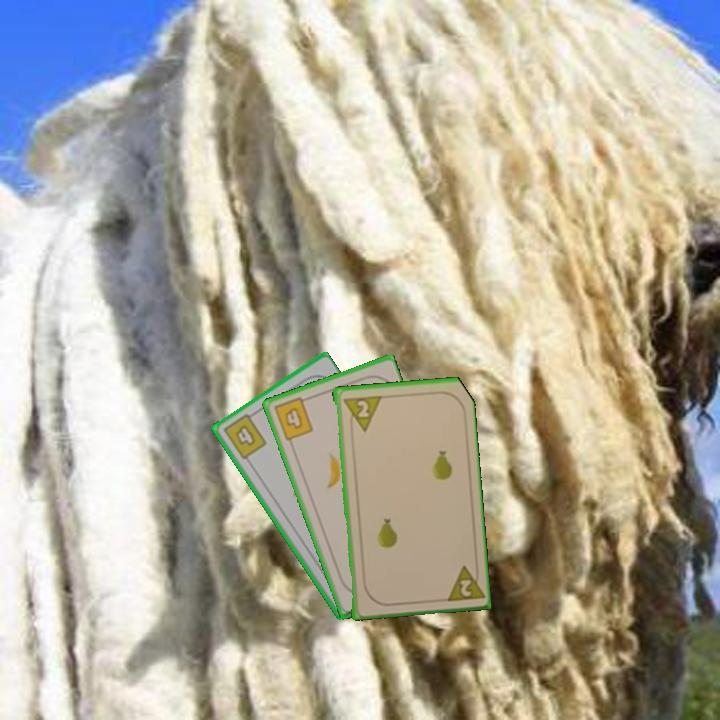2p: (440, 560, 485, 604), (339, 392, 382, 435)
4b: (219, 408, 270, 462), (270, 393, 316, 443)
